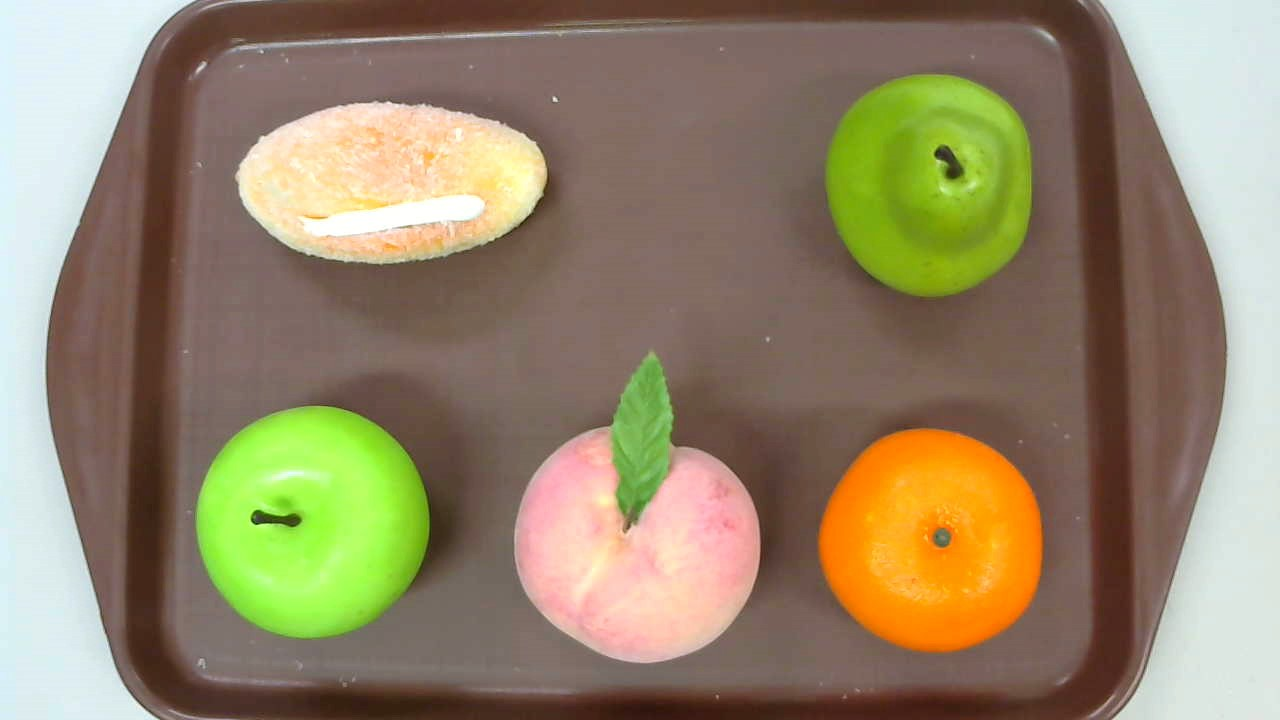coconut: (235, 101, 547, 266)
green apple: (195, 405, 430, 638)
green pear: (824, 72, 1034, 299)
orange: (818, 428, 1042, 653)
peaches: (513, 350, 760, 664)
